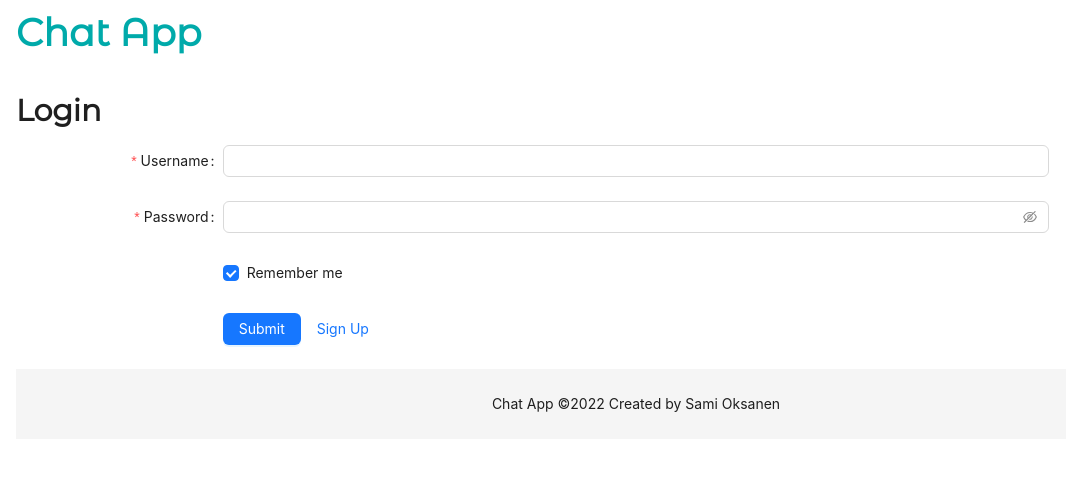
Test: LoginForm › can navigate back from sign up to login form
The width and height of the screenshot is (1066, 485).
Note: Go to sign up
Click the button "Sign Up" at [343, 329], box [301,313,385,345]
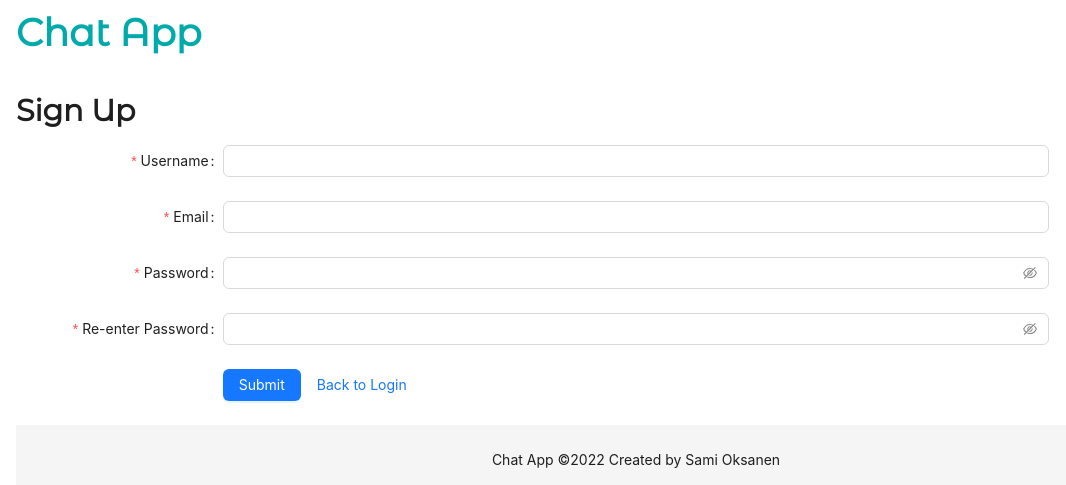
Expected: the heading "Sign Up" is shown, [16,92,136,129]
Expected: the field labelled "Email" is shown, [223,201,1049,233]
Click the button "Back to Login" at [362, 385], box [301,369,423,401]
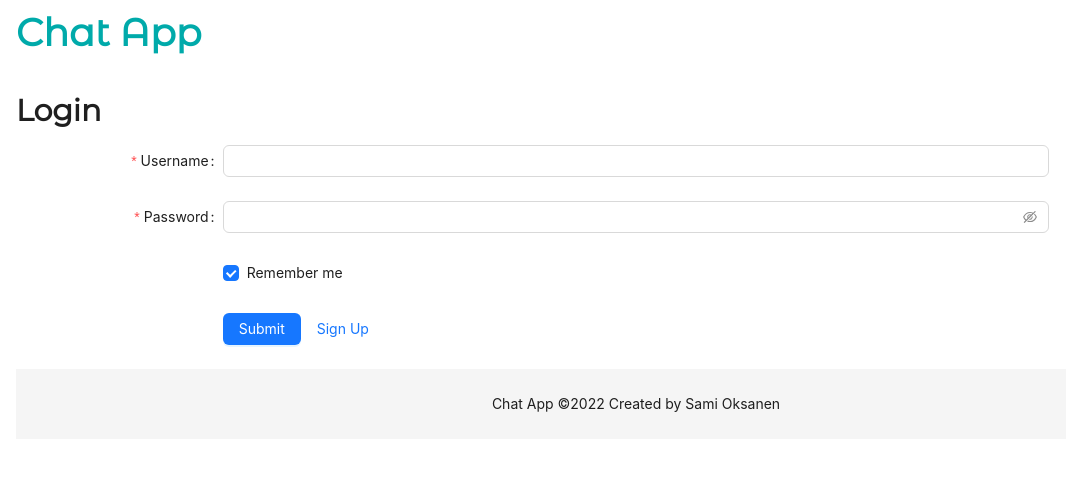
Expected: the heading "Login" is shown, [16,92,101,129]
Expected: the label labelled "Email" is gone
Expected: the label labelled "Re-enter Password" is gone
